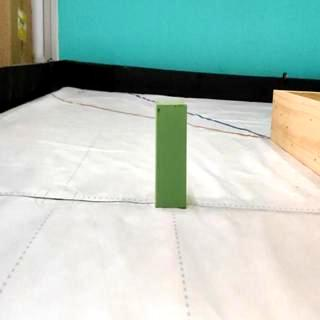greenbox: (153, 100, 190, 210)
